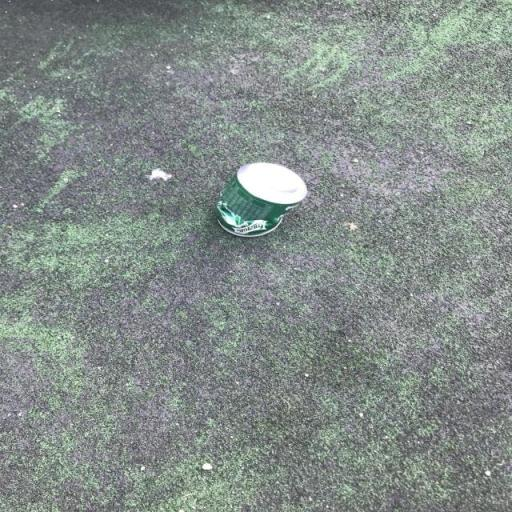metal: (151, 140, 346, 262)
